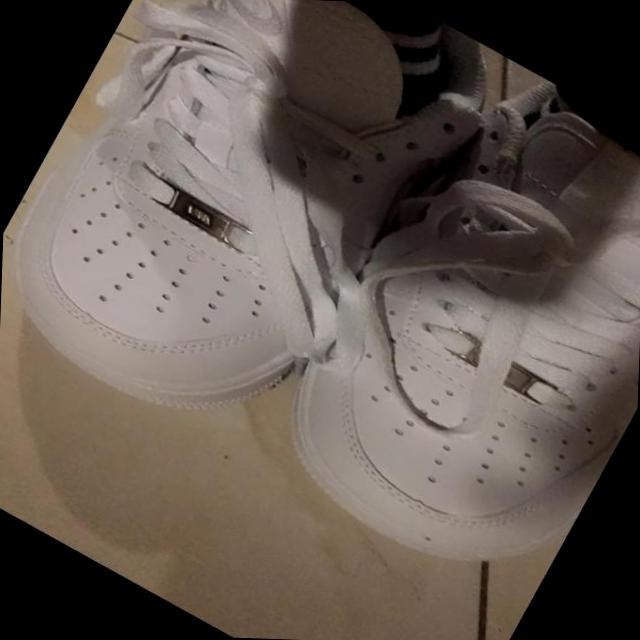nike_fake_airforce: (0, 0, 515, 491), (242, 35, 640, 620)
